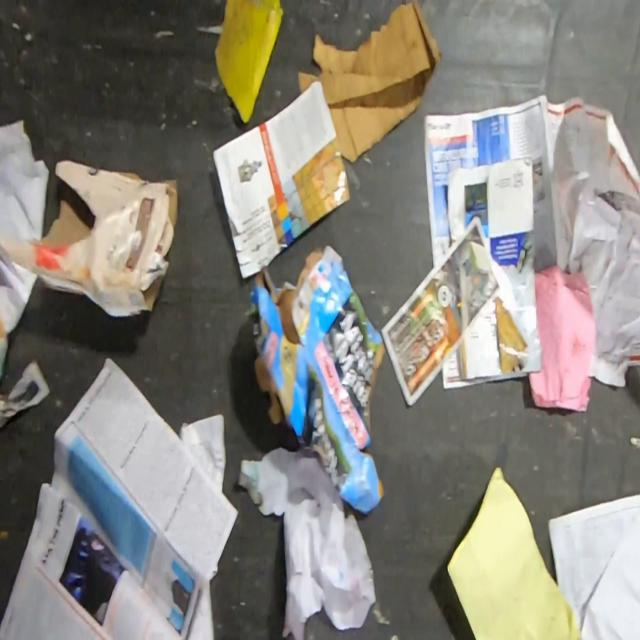cardboard: (249, 242, 388, 516), (0, 160, 178, 319), (212, 80, 351, 279), (494, 295, 528, 372)
